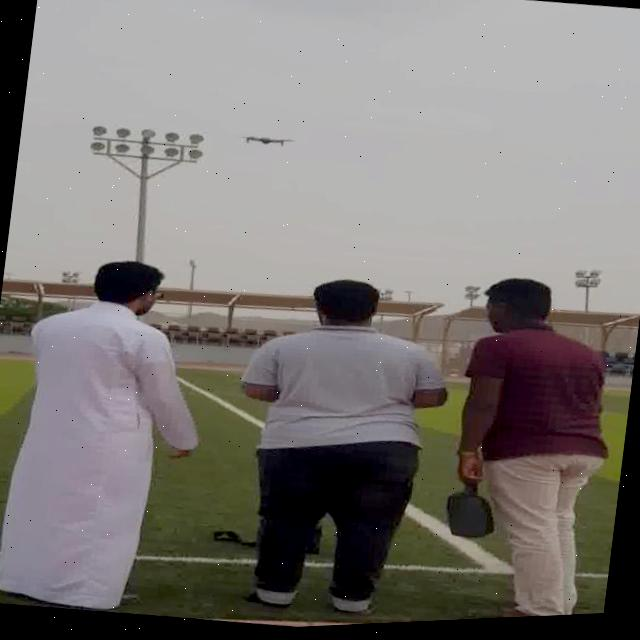drone: (233, 128, 306, 157)
